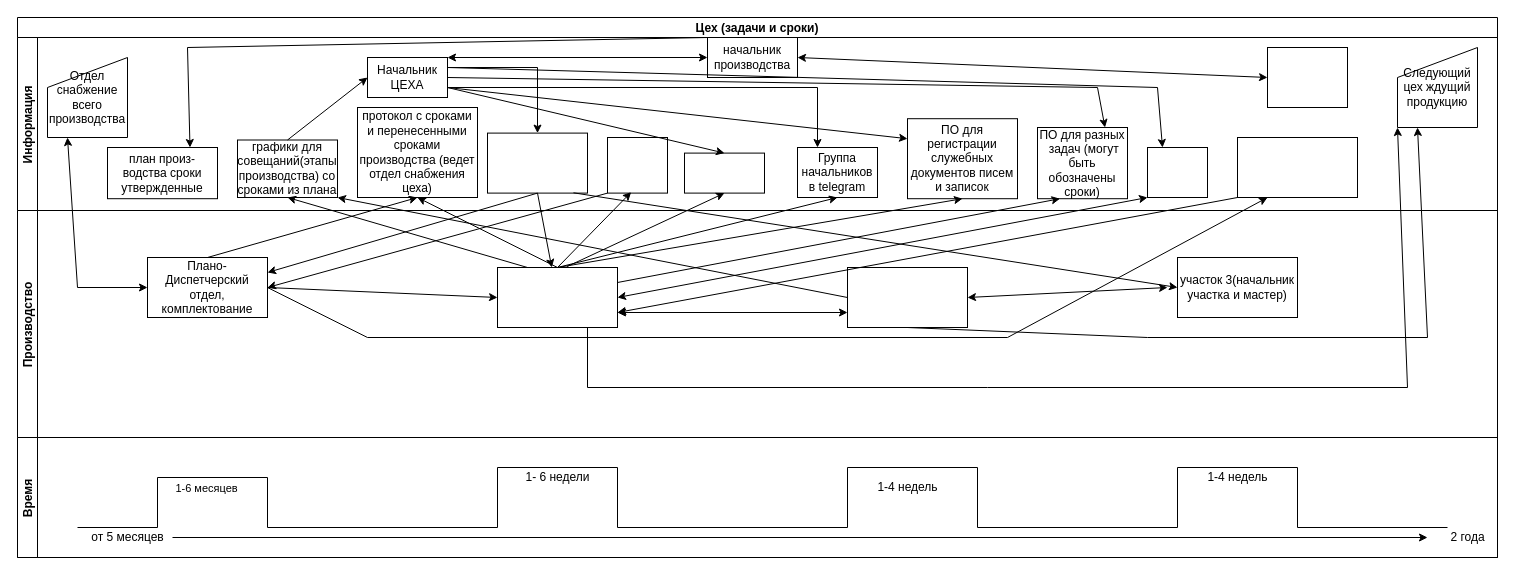
This 1515x575 diagram has some shape labels left out. Each missing label, with the centre of its shape:
"Outlook" belongs at (1177,172).
"Группа начальников в whatsapp" belongs at (724,172).
"начальник снабжения всего предприятия" belongs at (1307,77).
"Устные сроки от начальника цеха если вдруг что-то изменилось" belongs at (537,162).
"участок 1 (начальник участка и мастер)" belongs at (557,297).
"участок 2 (начальник участка и мастер)" belongs at (907,297).
"файл планового переноса сроков" belongs at (637,164).
"файл с сроками дефицитов(отдел снабжения цеха)" belongs at (1297,167).
